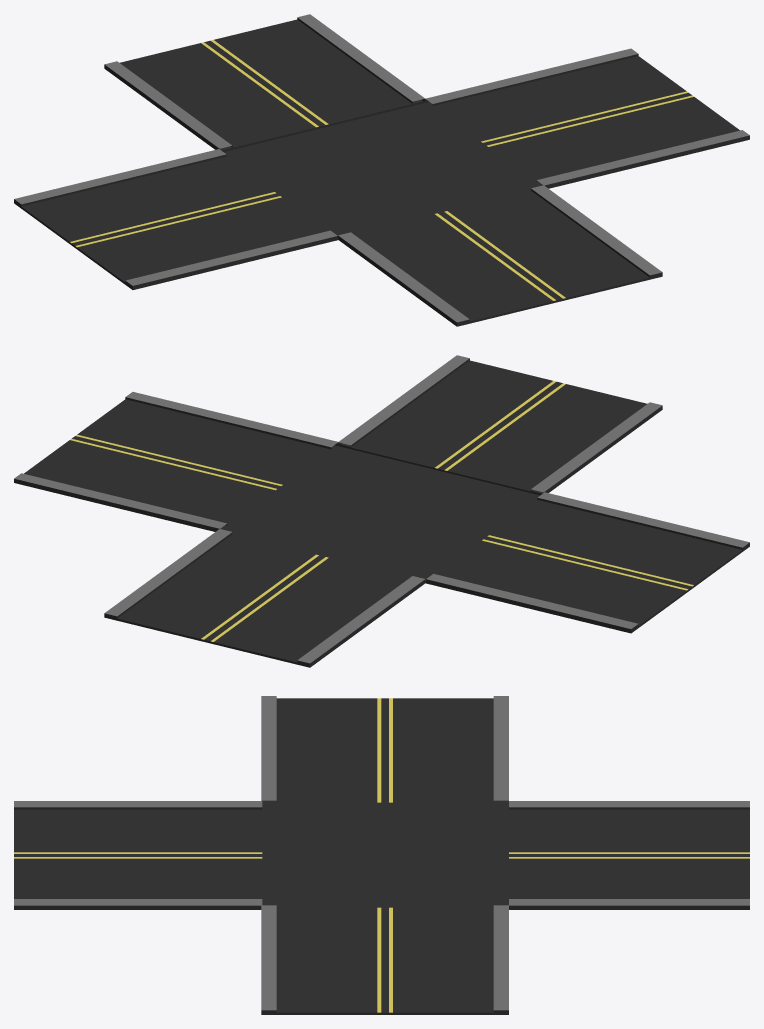
3 views of the same model, one above another, from view 1: azimuth 30°, elevation 25°; view 2: azimuth 150°, elevation 25°; view 3: azimuth 270°, elevation 25° (orthographic). The views are drawn at different scales.
Parts seen in each view (by area): view 1: Cube.001, Cube; view 2: Cube.001, Cube; view 3: Cube.001, Cube.
Boxes of the visible parts, x1,y1,x2,y2 form: Cube.001: (14, 48, 749, 289); Cube: (104, 14, 662, 326); Cube.001: (14, 392, 749, 633); Cube: (104, 355, 662, 667); Cube.001: (261, 696, 508, 1014); Cube: (14, 801, 749, 909).
Size of the model in its own units: 600 by 4 by 594.
